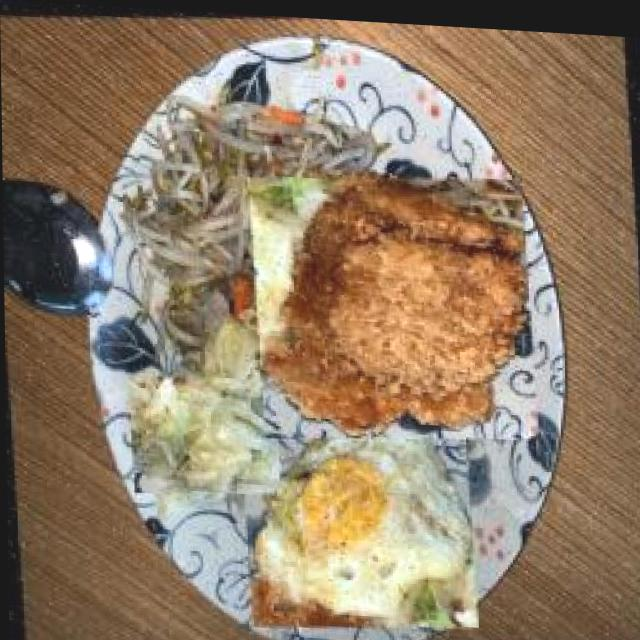chinese_cabbage: (134, 363, 274, 507)
fried_chicken: (252, 157, 535, 450)
fried_eggs: (236, 379, 477, 635)
mung_bean_sprouts: (133, 114, 274, 324)
